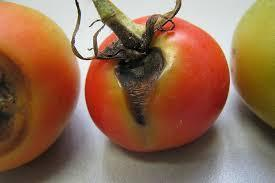tomato early blight: (88, 1, 231, 154), (1, 3, 82, 175)
